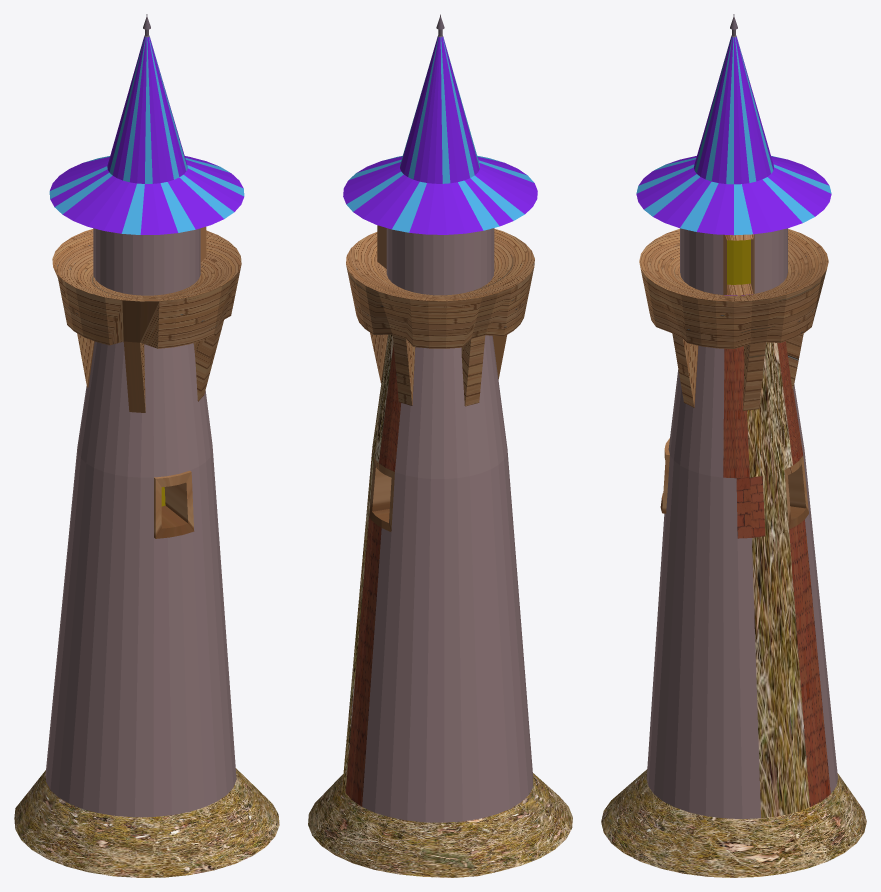
The model's file is Tour de Raiponce.fbx.
3 views of the same model, side by side, from view 1: azimuth 30°, elevation 25°; view 2: azimuth 150°, elevation 25°; view 3: azimuth 270°, elevation 25° (orthographic).
Parts seen in each view (by area): view 1: Cylinder; view 2: Cylinder; view 3: Cylinder.
Boxes of the visible parts, x1,y1,x2,y2 form: Cylinder: (14,14,279,877); Cylinder: (308,14,572,877); Cylinder: (601,14,866,877).
Bounding box in the file's own units: 359 × 1205 × 359.
